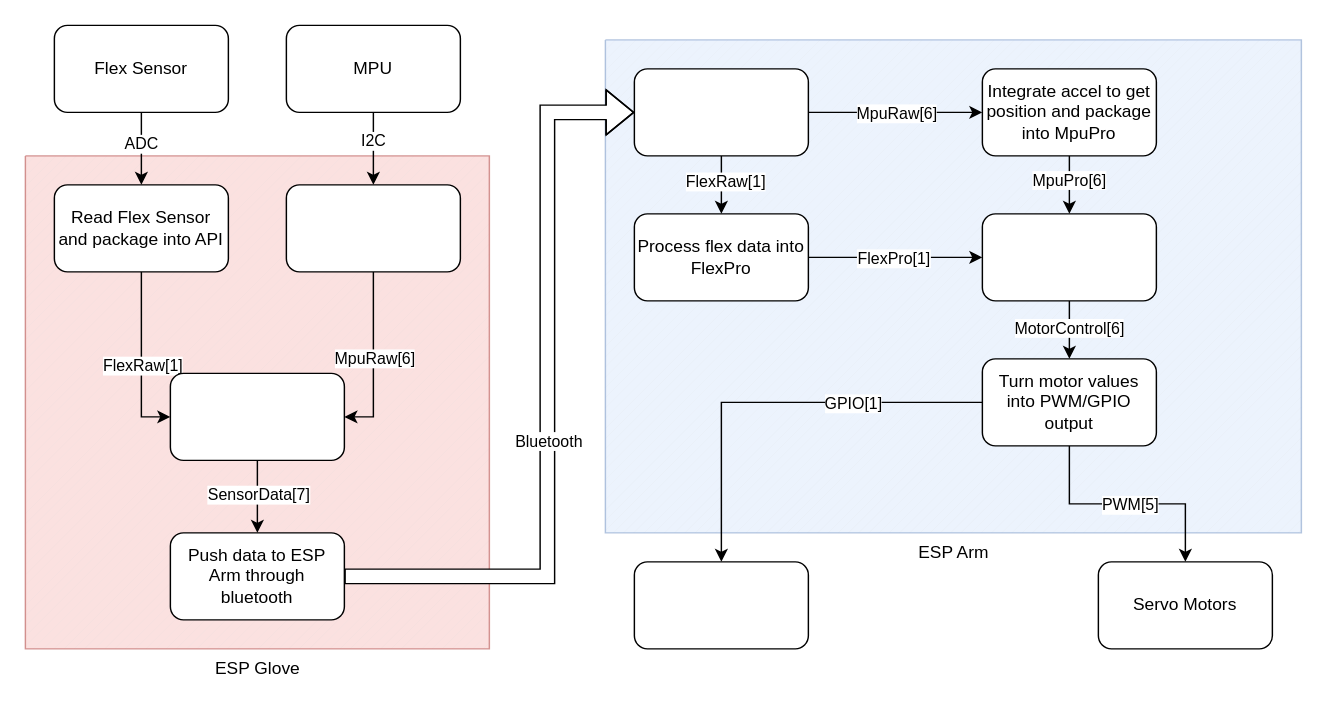
Image size: 1327x705. Some labels were removed from this diagram. The shapes that lost their labels are listed below. From the top down, each one's centre as x and y in pixels, then its label:
point (720, 111): Read sensor data from bluetooth
point (372, 227): Read MPU data and package into API
point (1068, 256): Perform threshold calculations and determine which motors must be on
point (256, 416): Package sensor data to send over bluetooth
point (720, 604): Stepper Motor
